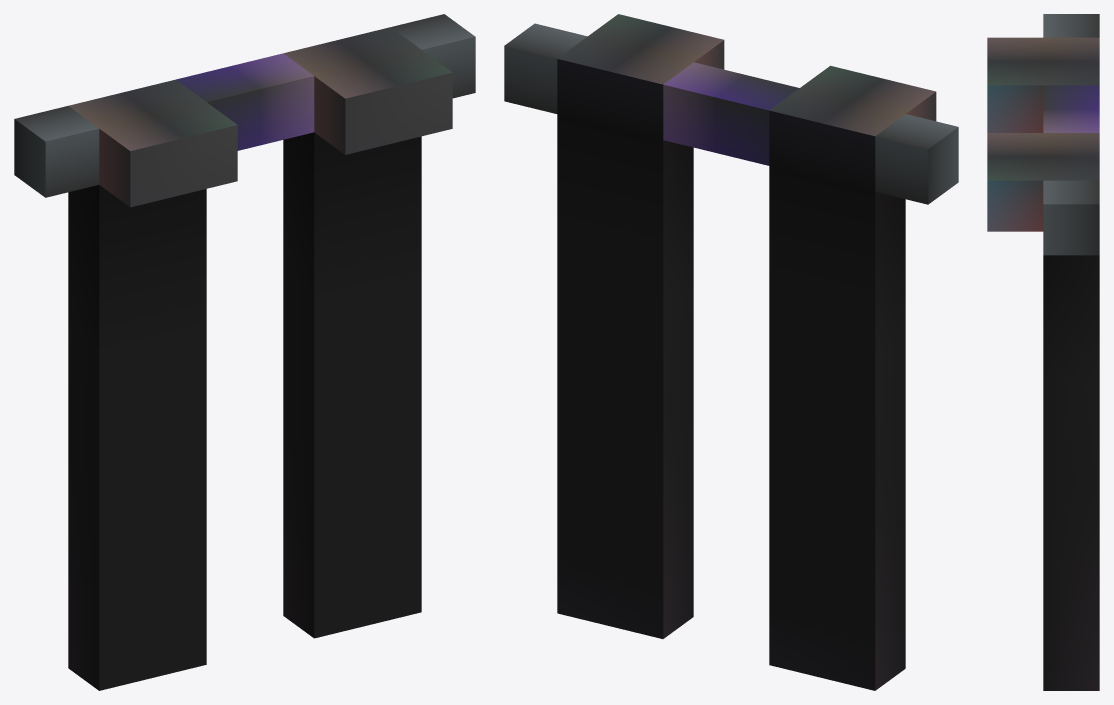
Rendered from Cable_P_00.fbx.
3 views of the same model, side by side, from view 1: azimuth 30°, elevation 25°; view 2: azimuth 150°, elevation 25°; view 3: azimuth 270°, elevation 25° (orthographic). The views are drawn at different scales.
Parts seen in each view (by area): view 1: Cable_P_00; view 2: Cable_P_00; view 3: Cable_P_00.
Part boxes in pixels (bbox=[...]): Cable_P_00: bbox=[14, 14, 475, 690]; Cable_P_00: bbox=[504, 14, 958, 690]; Cable_P_00: bbox=[987, 14, 1099, 690].
Bounding box in the file's own units: 40 × 50 × 10.
